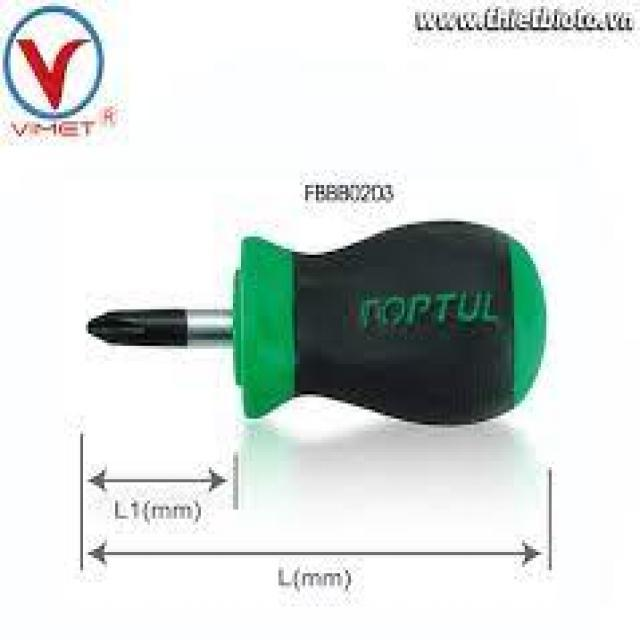screwdriver: (78, 222, 550, 424)
